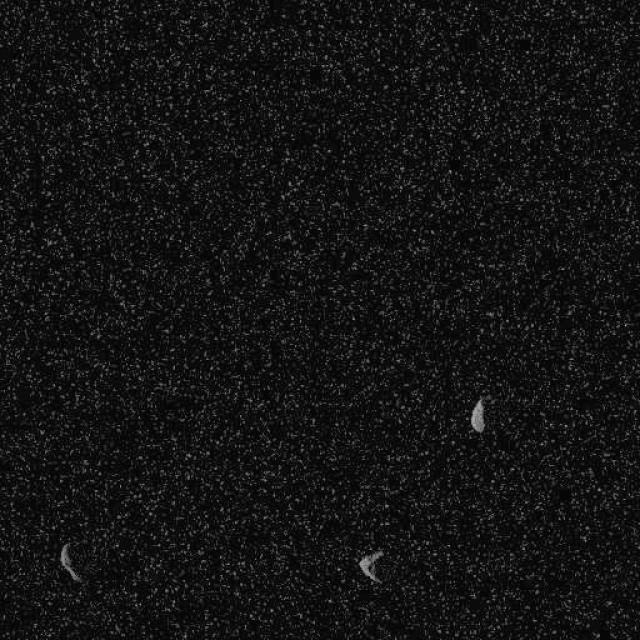D2: (58, 541, 82, 584), (356, 548, 384, 584), (469, 395, 486, 433)
